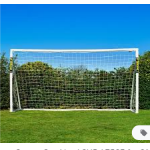goals: (9, 48, 139, 115)
